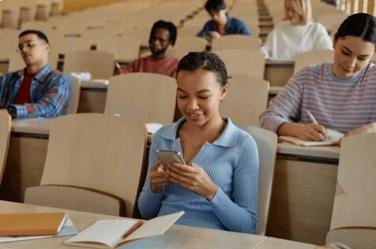phone: (136, 51, 257, 234), (196, 0, 249, 41)
study: (263, 12, 376, 145), (115, 19, 177, 77)
